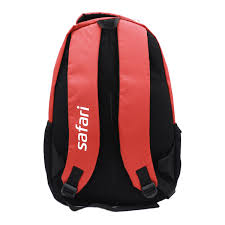backpack: (43, 11, 182, 212)
